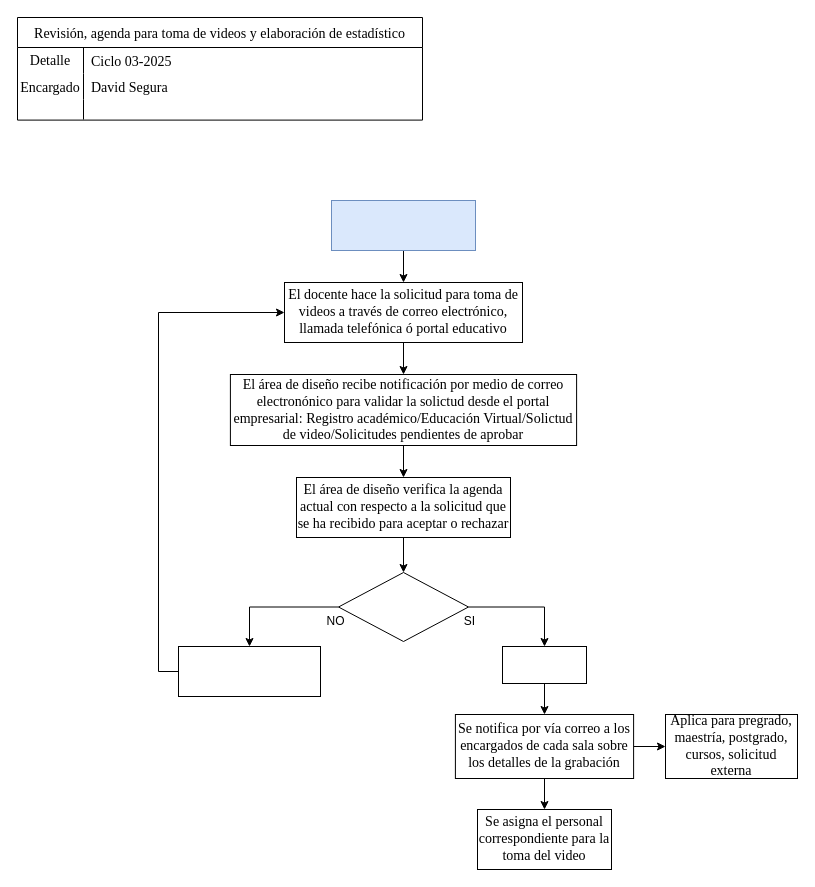
Image size: 815x887. Some labels were removed from this diagram. The centre of each missing label's shape, as x and y in pixels:
Agendar citas para toma de videos: the point at 403,225
Se agrega a la agenda: the point at 544,665
Se notifica al docente que realice nuevamente la solicitud: the point at 249,671
¿Aprobar?: the point at 403,607
